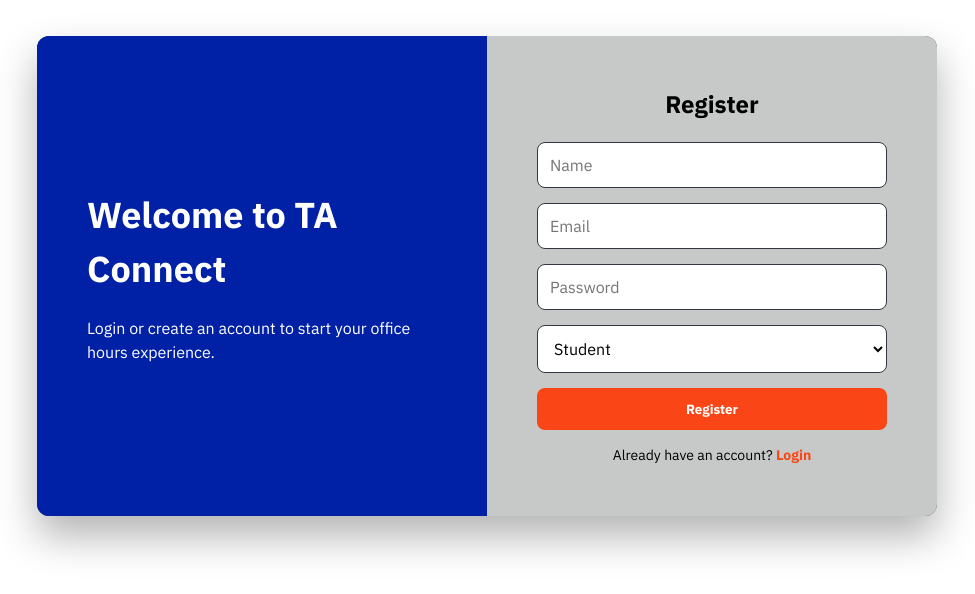
Test: Register page › shows fallback registration error message
Click the button "Register" at (712, 409), box [537,388,887,430]
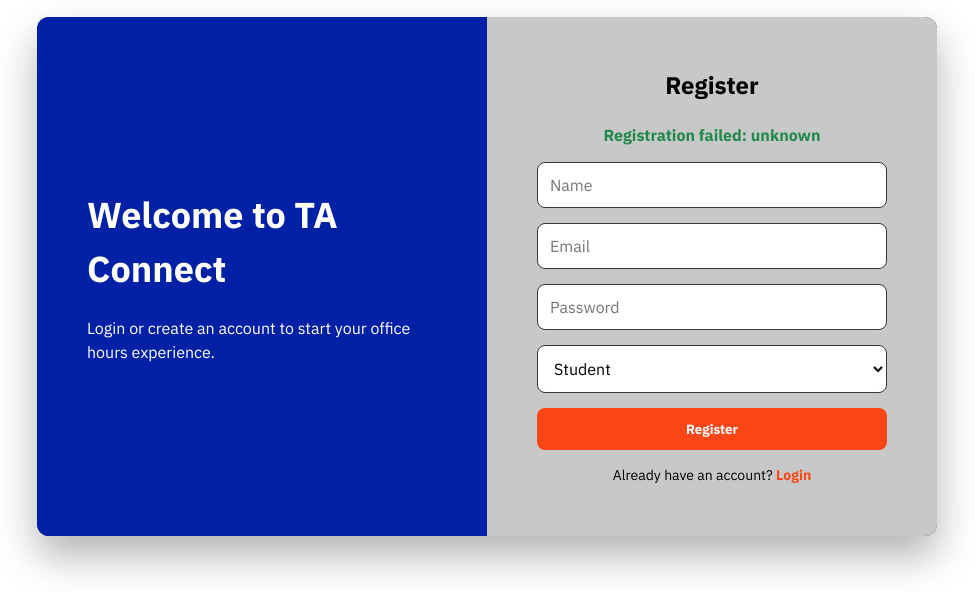
Now the text "Registration failed: unknown" is shown, box [604,124,821,144]
